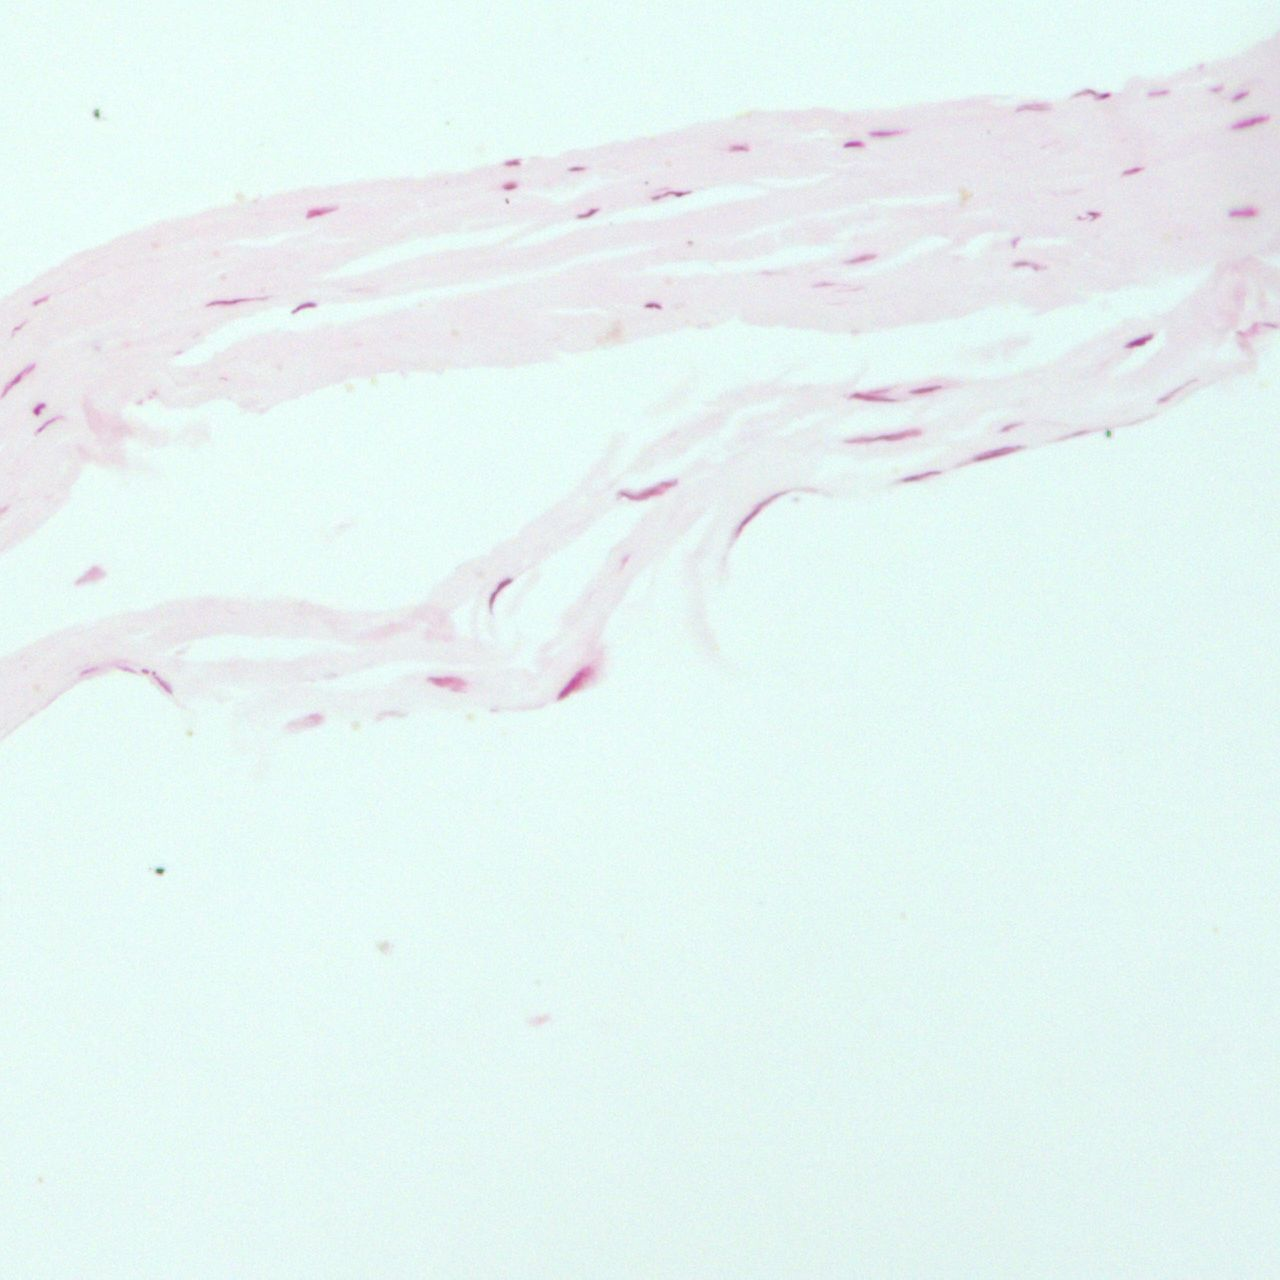dust: (89, 109, 104, 120), (154, 866, 166, 877), (1104, 430, 1114, 440)
nucleus-AC: (724, 486, 794, 540), (550, 662, 599, 708), (617, 474, 679, 508), (842, 425, 921, 449), (1153, 374, 1200, 406), (971, 440, 1024, 464), (484, 572, 515, 614), (204, 292, 266, 309), (896, 467, 942, 488), (1047, 424, 1099, 443), (1227, 111, 1269, 134), (1123, 328, 1160, 352), (850, 390, 898, 407), (302, 200, 341, 220), (652, 185, 692, 203), (30, 414, 61, 436), (431, 676, 469, 693), (1015, 100, 1053, 114), (154, 673, 173, 696), (844, 252, 877, 266), (1247, 320, 1279, 334), (908, 384, 942, 397), (288, 300, 316, 315), (1119, 163, 1148, 178), (1227, 88, 1250, 107), (28, 400, 49, 418), (867, 128, 908, 137), (1076, 90, 1112, 101), (998, 420, 1026, 433), (576, 206, 598, 222), (1228, 207, 1257, 219), (30, 293, 50, 309), (11, 321, 29, 336), (1012, 261, 1046, 270), (116, 665, 141, 675), (1148, 88, 1171, 98), (728, 145, 751, 154), (843, 139, 865, 148), (79, 667, 98, 675), (504, 158, 523, 166), (1087, 211, 1101, 222), (502, 182, 519, 190), (645, 302, 663, 309), (1009, 236, 1021, 246), (567, 166, 586, 172), (1208, 83, 1221, 91), (142, 668, 147, 675)
